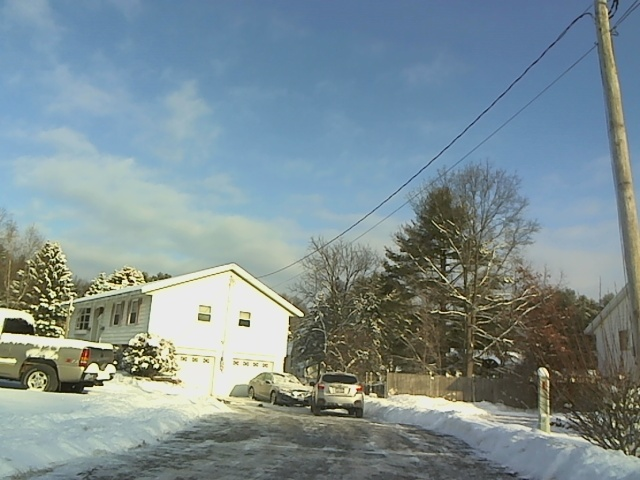Ploughed: (198, 409, 461, 469)
